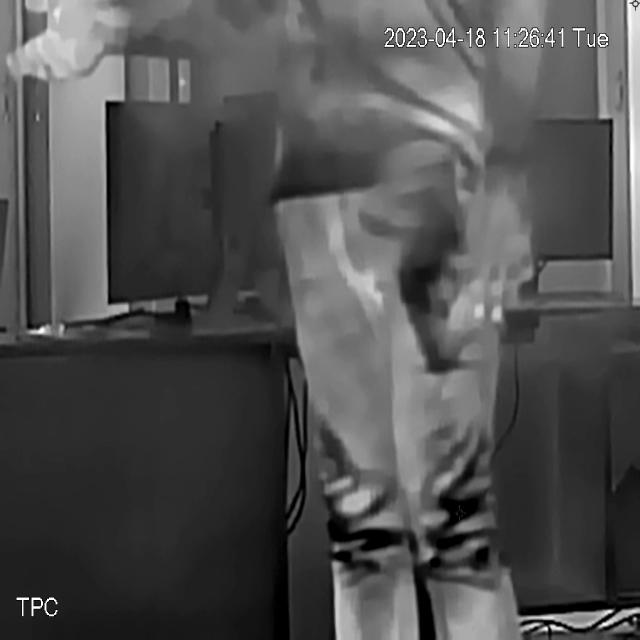Weapon: (390, 176, 470, 388)
